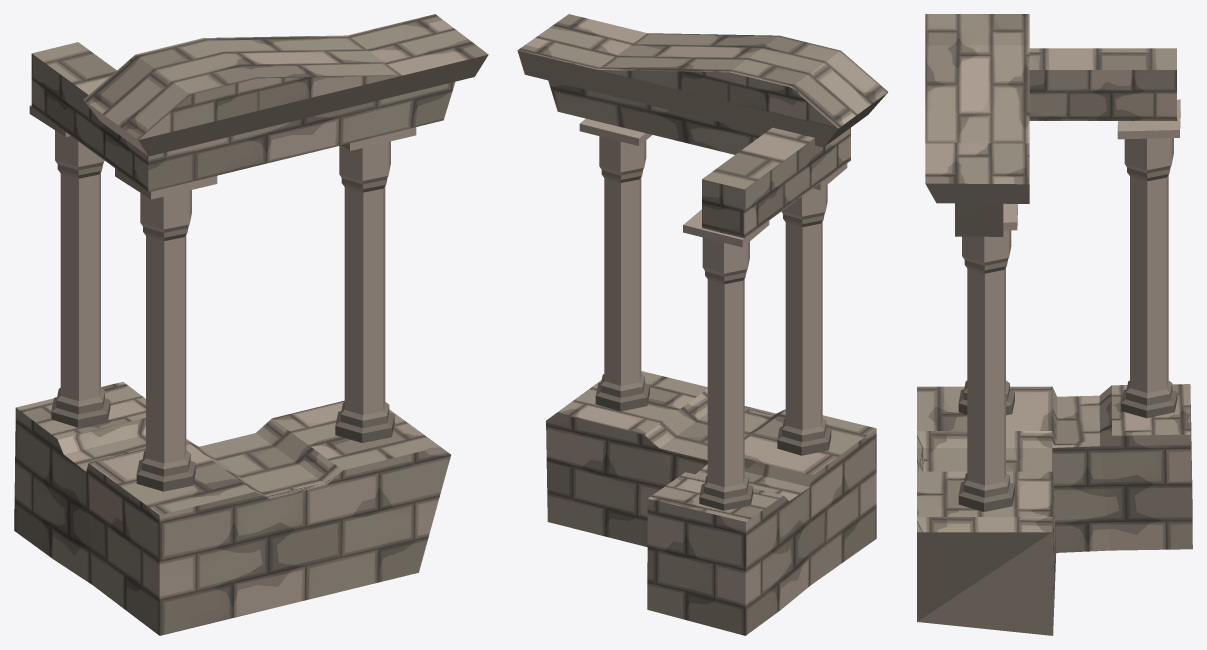
The model's file is SM_Bld_Ruins_02.fbx.
The picture shows the model from 3 angles, left to right: view 1: azimuth 30°, elevation 25°; view 2: azimuth 150°, elevation 25°; view 3: azimuth 270°, elevation 25°; orthographic projection. The views are drawn at different scales.
Parts seen in each view (by area): view 1: SM_Bld_Ruins_02; view 2: SM_Bld_Ruins_02; view 3: SM_Bld_Ruins_02.
Boxes of the visible parts, <box> form: SM_Bld_Ruins_02: <box>14,14,488,635</box>; SM_Bld_Ruins_02: <box>517,14,887,635</box>; SM_Bld_Ruins_02: <box>917,14,1192,635</box>.
Size of the model in its own units: 801 by 1153 by 571.
